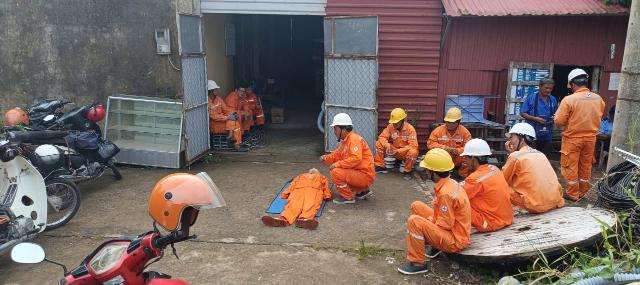helmet: (419, 148, 457, 174), (501, 120, 541, 144), (459, 140, 498, 162), (325, 111, 359, 132), (384, 107, 413, 130), (565, 65, 588, 91), (201, 77, 232, 96), (444, 108, 467, 132)
shoes: (398, 258, 433, 278), (258, 212, 290, 229), (329, 191, 359, 209), (293, 215, 323, 231), (420, 243, 446, 259), (354, 184, 374, 202), (562, 189, 583, 205), (370, 163, 391, 178), (398, 168, 415, 183), (226, 133, 239, 148), (233, 143, 248, 154)
